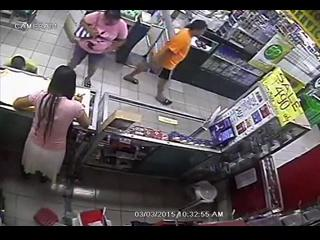Normal: (12, 65, 92, 192), (123, 19, 208, 106), (66, 10, 128, 88)
